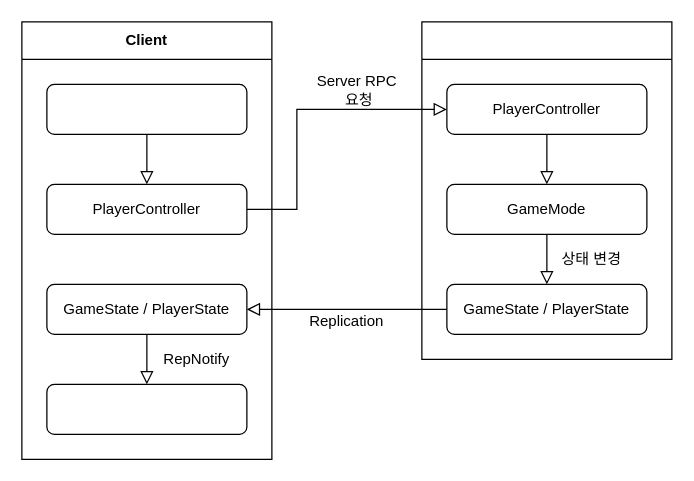
Image size: 694x481. Some labels were removed from this diagram. Each missing label, with the box of its shape:
Client UI / Input: (46, 83, 247, 134)
Client UI 상태 반영: (46, 383, 247, 434)
Server: (421, 21, 672, 359)
